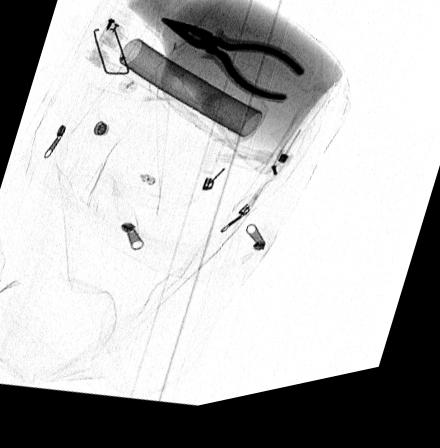Pliers: (159, 23, 307, 114)
